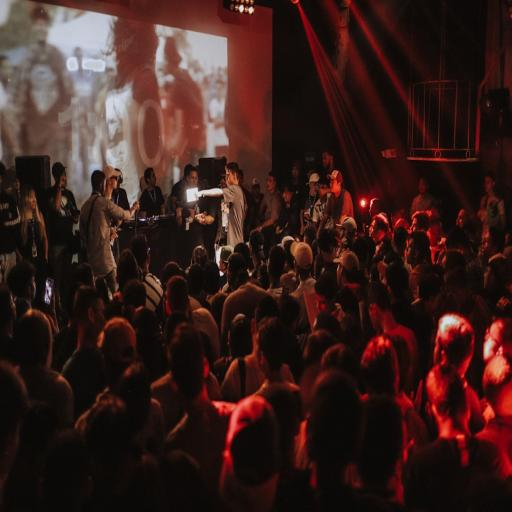face: (484, 320, 502, 362), (92, 299, 106, 334), (482, 233, 493, 258), (405, 239, 415, 264), (28, 276, 36, 300), (187, 170, 198, 187), (457, 210, 467, 227), (226, 168, 236, 185), (322, 152, 332, 168), (330, 180, 341, 194), (485, 177, 494, 194), (29, 190, 36, 211), (267, 176, 275, 193), (419, 179, 428, 194), (319, 184, 329, 197), (309, 182, 318, 196), (292, 165, 300, 180), (252, 185, 260, 200), (149, 171, 156, 186), (60, 171, 66, 187)
